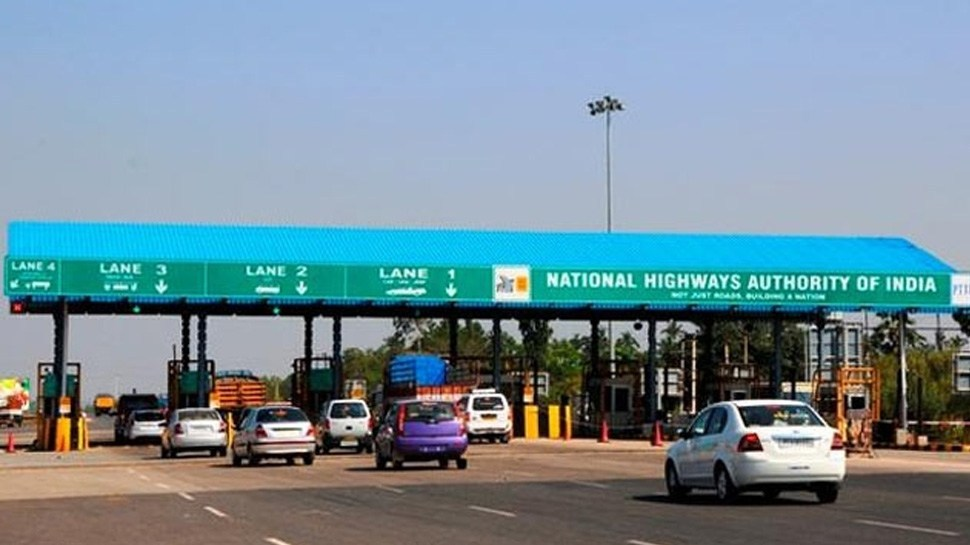toll plaza: (6, 206, 970, 398)
